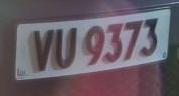3: (104, 19, 125, 64), (143, 15, 159, 59)
7: (122, 17, 145, 64)
9: (83, 21, 106, 69)
U: (52, 24, 80, 75)
W: (29, 23, 60, 77)
